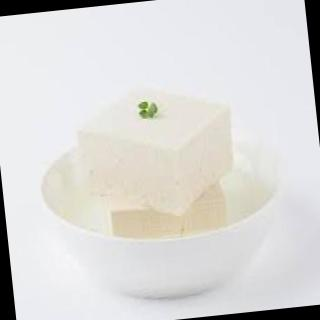Tahu: (62, 70, 246, 258)
